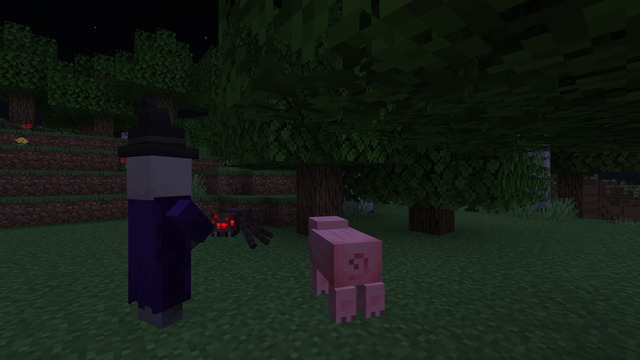araignees: (202, 204, 268, 253)
cochons: (296, 224, 389, 323)
sorcieres: (126, 147, 194, 341)
